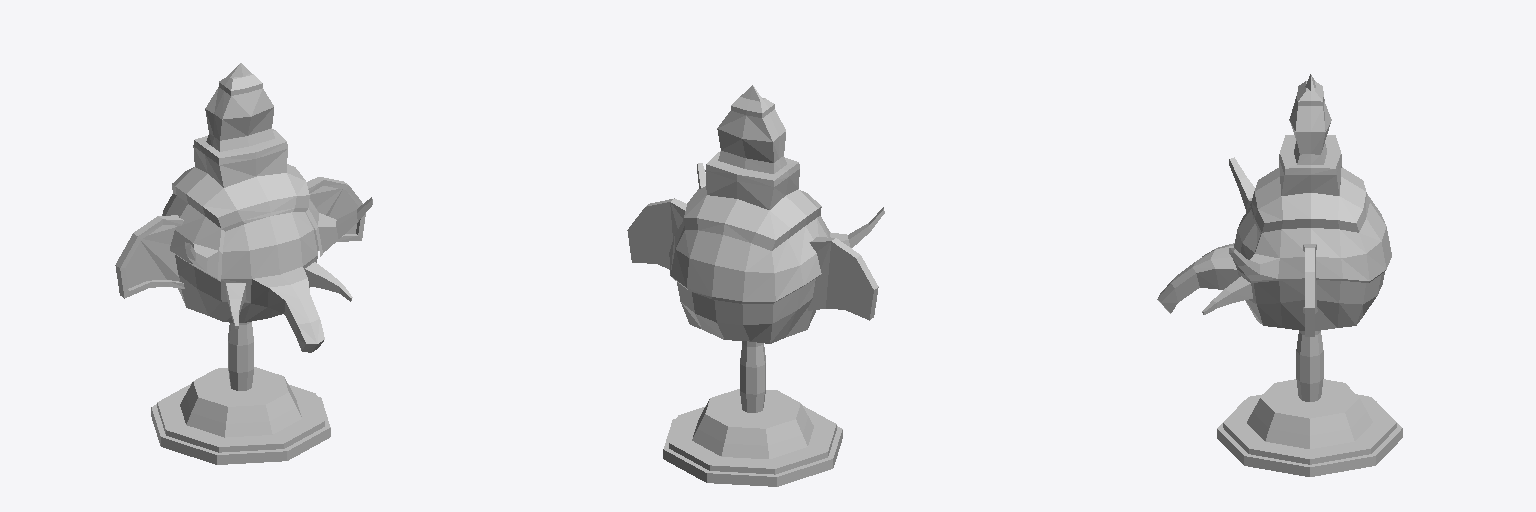
File: PhorKae.obj
3 renders of one model, left to right at view 1: azimuth 30°, elevation 25°; view 2: azimuth 150°, elevation 25°; view 3: azimuth 270°, elevation 25°, orthographic.
Visible parts, largest first — view 1: Cylinder.003; view 2: Cylinder.003; view 3: Cylinder.003.
Part boxes in pixels (left/top/right/bottom): Cylinder.003: left=115, top=63, right=372, bottom=464; Cylinder.003: left=627, top=85, right=884, bottom=486; Cylinder.003: left=1157, top=74, right=1402, bottom=476.
Size of the model in its own units: 3.16 by 4.46 by 2.72.